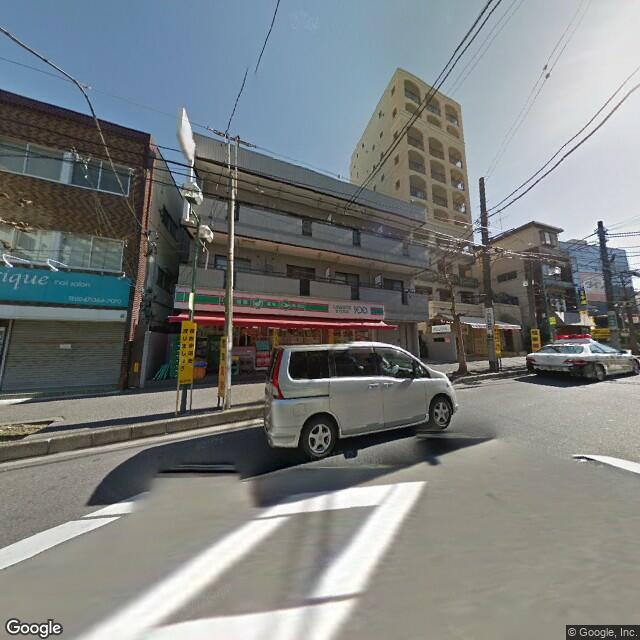lawson: (175, 283, 386, 327)
